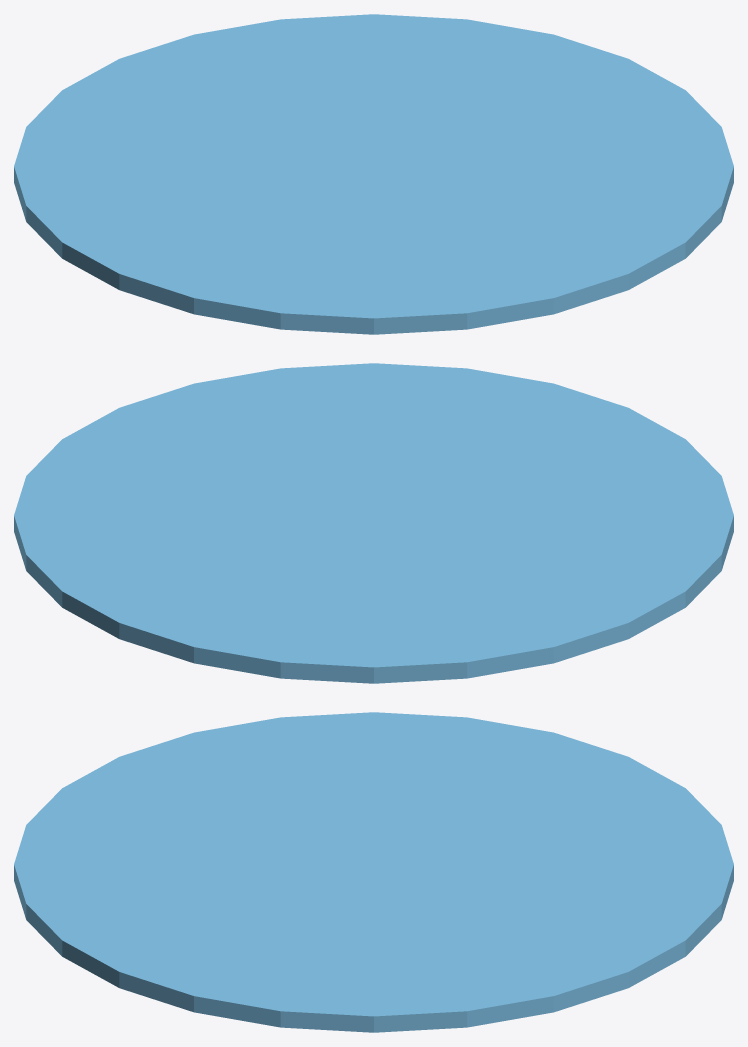
Rendered from figure_circle_blue.dae.
The picture shows the model from 3 angles, top to bottom: view 1: azimuth 30°, elevation 25°; view 2: azimuth 150°, elevation 25°; view 3: azimuth 270°, elevation 25°; orthographic projection.
Visible parts, largest first — view 1: Circle; view 2: Circle; view 3: Circle.
Part boxes in pixels (left/top/right/bottom): Circle: left=14, top=14, right=733, bottom=334; Circle: left=14, top=363, right=733, bottom=683; Circle: left=14, top=712, right=733, bottom=1032.
Size of the model in its own units: 1 by 1 by 0.025.
1 material, 1 textured.
